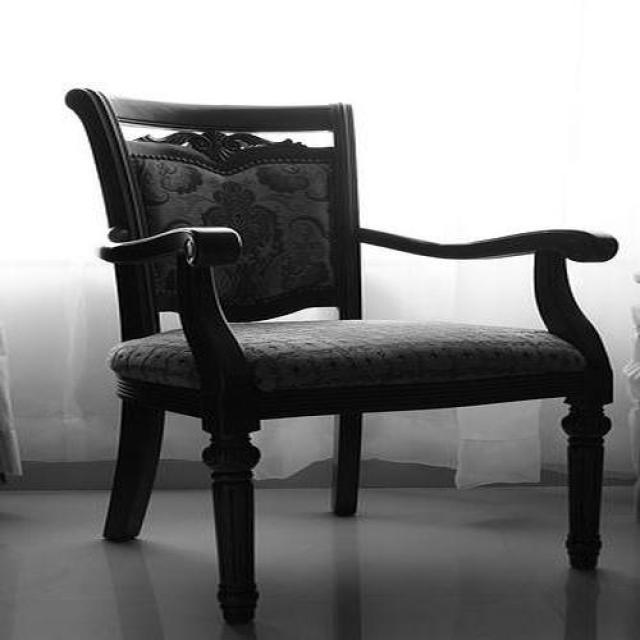chair: (64, 90, 620, 627)
